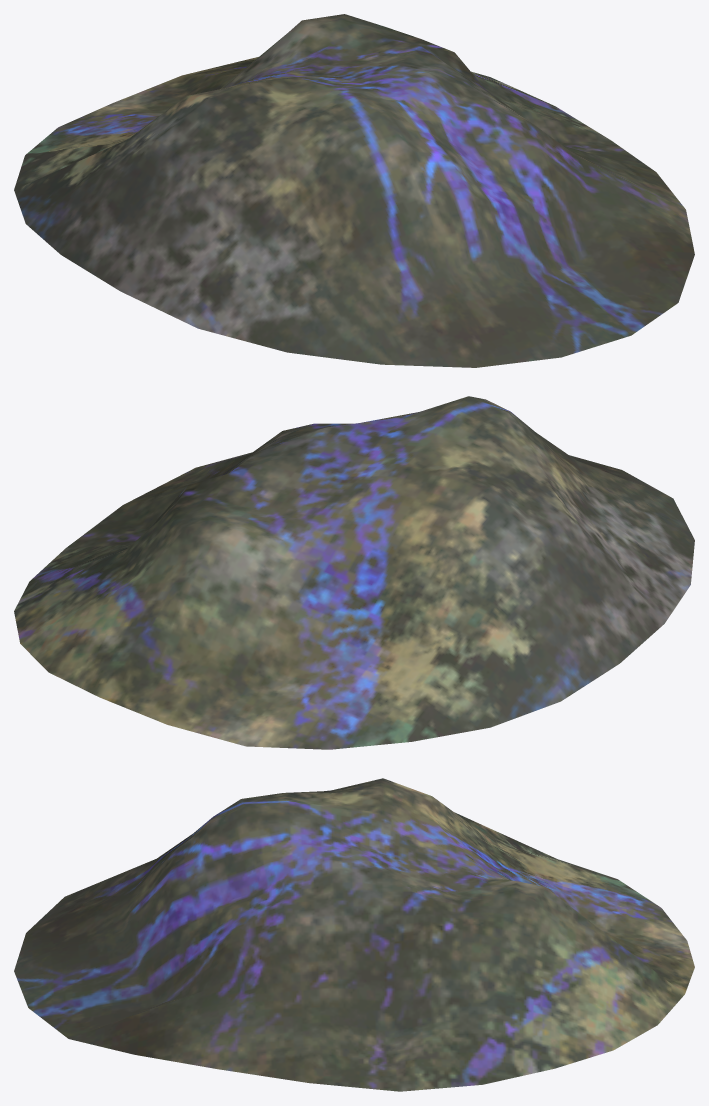
The model's file is Mold_01.obj.
3 views of the same model, one above another, from view 1: azimuth 30°, elevation 25°; view 2: azimuth 150°, elevation 25°; view 3: azimuth 270°, elevation 25° (orthographic). The views are drawn at different scales.
Parts seen in each view (by area): view 1: Model_Mold_01; view 2: Model_Mold_01; view 3: Model_Mold_01.
Part boxes in pixels (<box>): Model_Mold_01: <box>14,14,694,367</box>; Model_Mold_01: <box>14,396,694,749</box>; Model_Mold_01: <box>14,778,694,1091</box>.
Bounding box in the file's own units: 0.4539 × 0.1315 × 0.542.
Materials: 1 (1 with a texture image).
